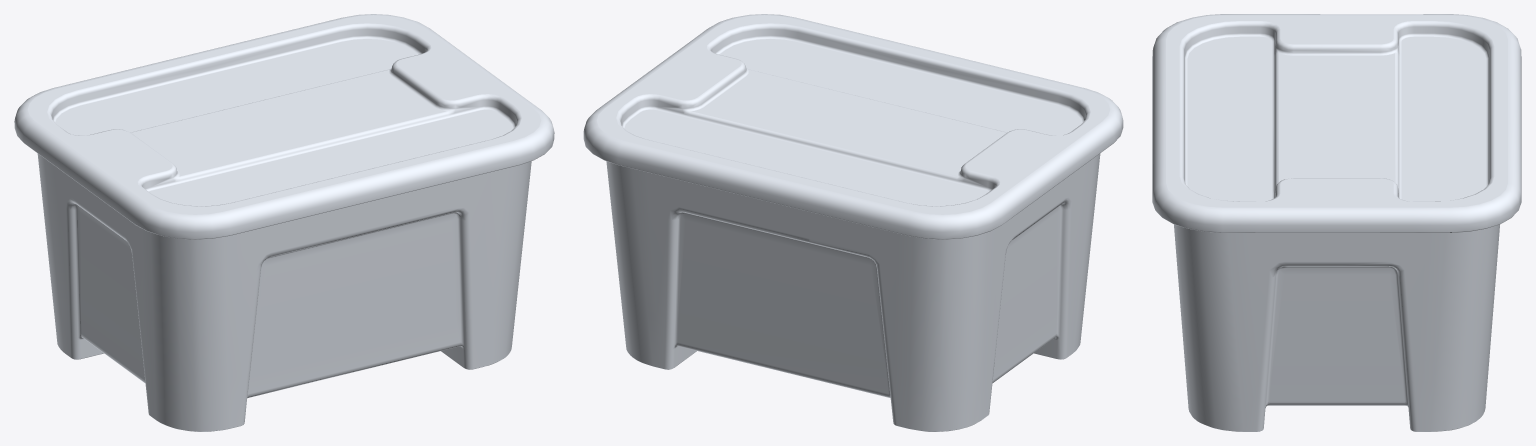
3 renders of one model, left to right at view 1: azimuth 30°, elevation 25°; view 2: azimuth 150°, elevation 25°; view 3: azimuth 270°, elevation 25°, orthographic.
Visible parts, largest first — view 1: ASY_ART_80630608_S01_NV01; view 2: ASY_ART_80630608_S01_NV01; view 3: ASY_ART_80630608_S01_NV01.
Boxes of the visible parts, <box> form: ASY_ART_80630608_S01_NV01: <box>14,14,554,431</box>; ASY_ART_80630608_S01_NV01: <box>583,14,1123,431</box>; ASY_ART_80630608_S01_NV01: <box>1152,14,1521,431</box>.
Size of the model in its own units: 0.1745 by 0.0935 by 0.1335.
1 material, 1 textured.
